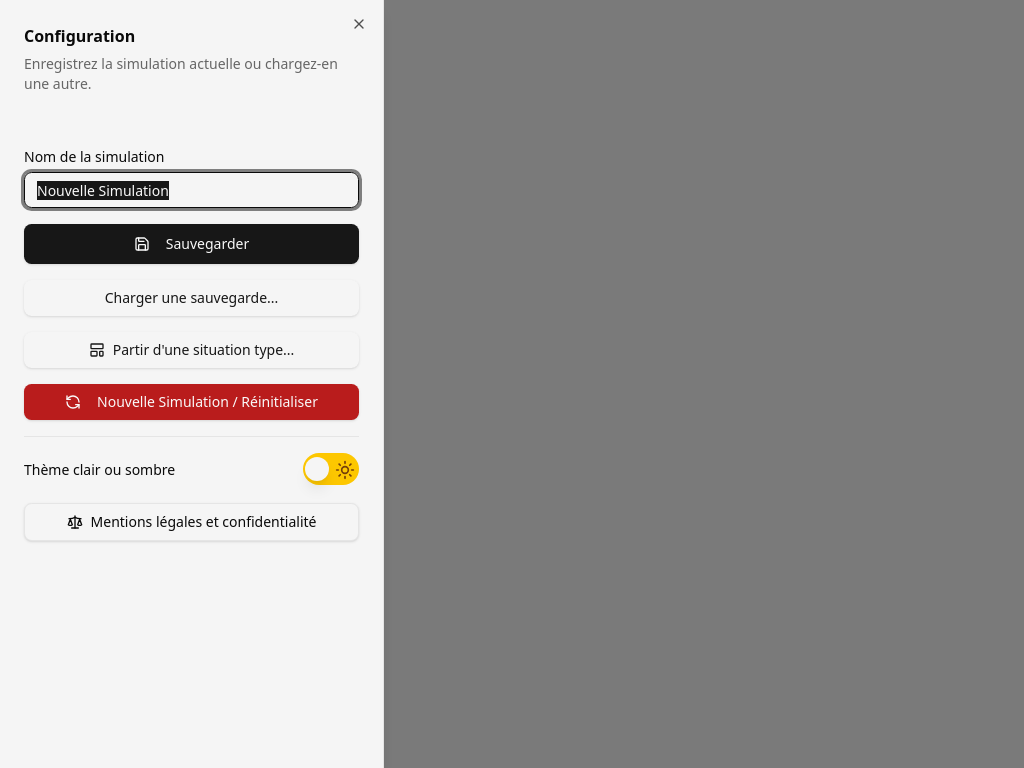
SettingsSheet, export de toutes les sauvegardes › est désactivé tant qu'il n'y a aucune sauvegarde
The width and height of the screenshot is (1024, 768).
Click the button "Charger une sauvegarde..." at {"x": 192, "y": 298}, box x1=24 y1=280 x2=359 y2=316
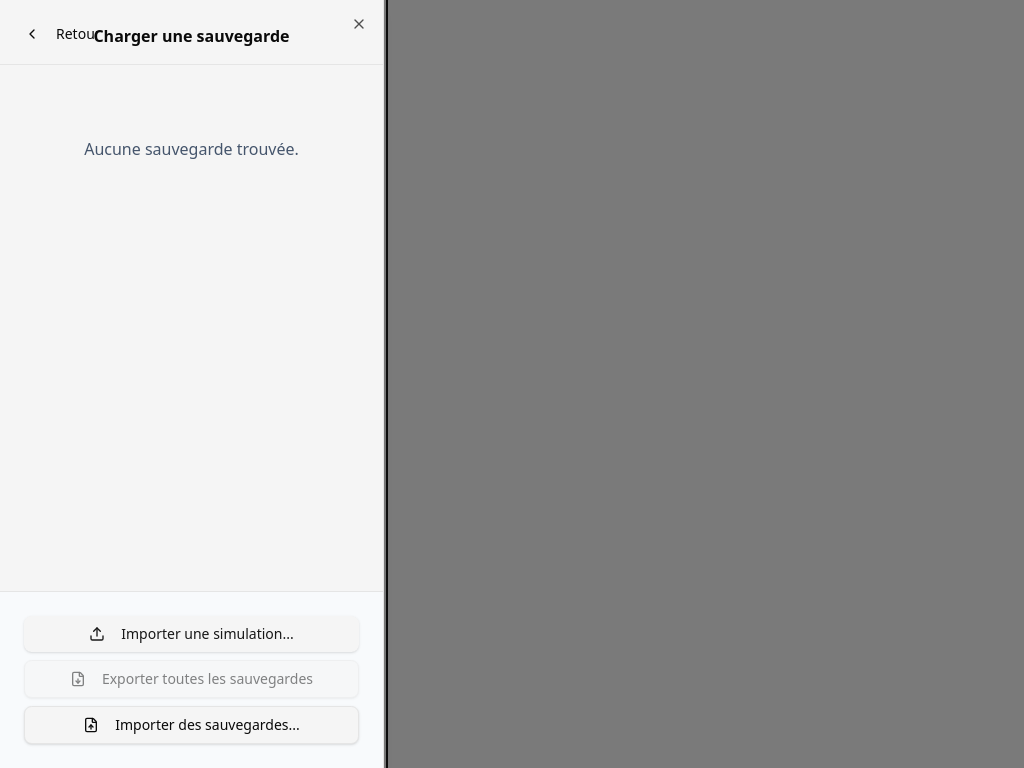
Check: the button "Exporter toutes les sauvegardes" is disabled, box x1=24 y1=660 x2=359 y2=698
Check: the button "Importer des sauvegardes..." is enabled, box x1=24 y1=706 x2=359 y2=744
